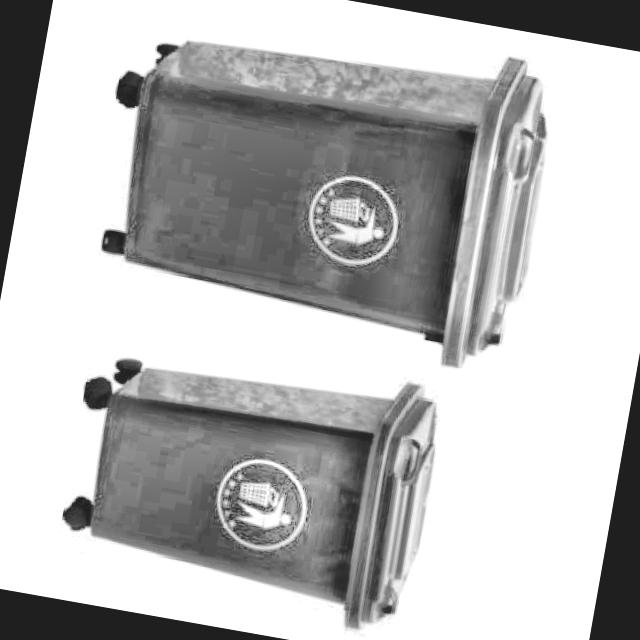Dustbin: (44, 0, 575, 382), (21, 312, 466, 640)
